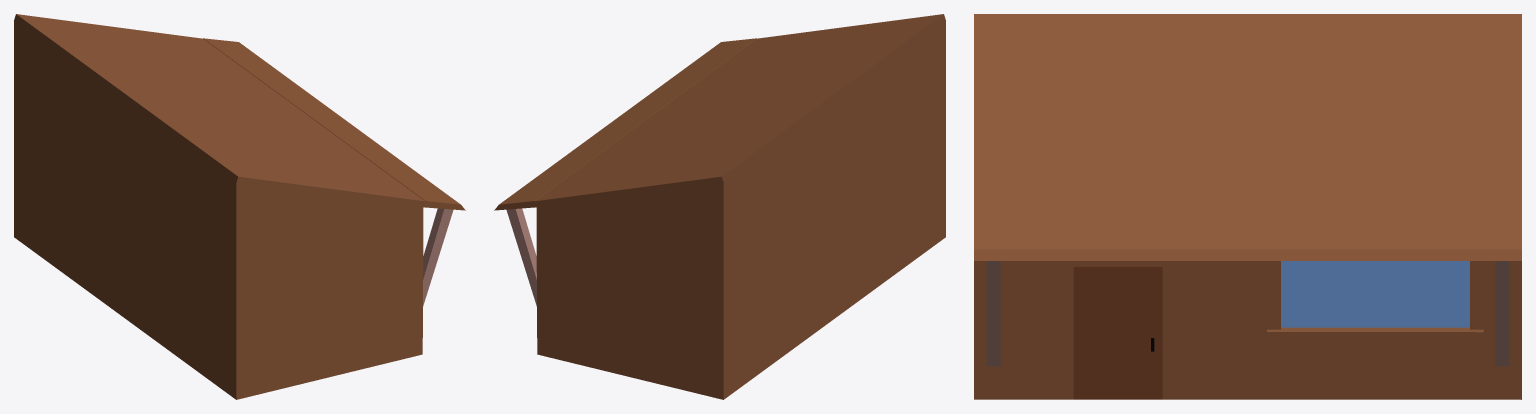
The model's file is AsianHouse1.fbx.
3 renders of one model, left to right at view 1: azimuth 30°, elevation 25°; view 2: azimuth 150°, elevation 25°; view 3: azimuth 270°, elevation 25°, orthographic. The views are drawn at different scales.
Visible parts, largest first — view 1: Cube; view 2: Cube; view 3: Cube.
Boxes of the visible parts, x1,y1,x2,y2 form: Cube: (14,14,465,399); Cube: (494,14,945,399); Cube: (974,14,1521,399).
Bounding box in the file's own units: 4724 × 4383 × 7923.
